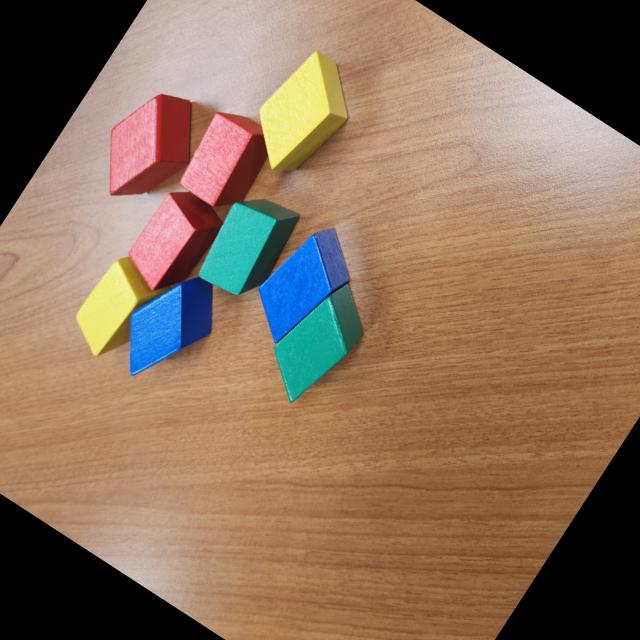blue: (238, 212, 368, 359), (102, 256, 233, 400)
green: (252, 267, 383, 416), (188, 180, 305, 308)
red: (79, 73, 218, 224), (170, 100, 284, 220), (117, 182, 229, 304)
yellow: (234, 40, 370, 190), (62, 248, 174, 371)
